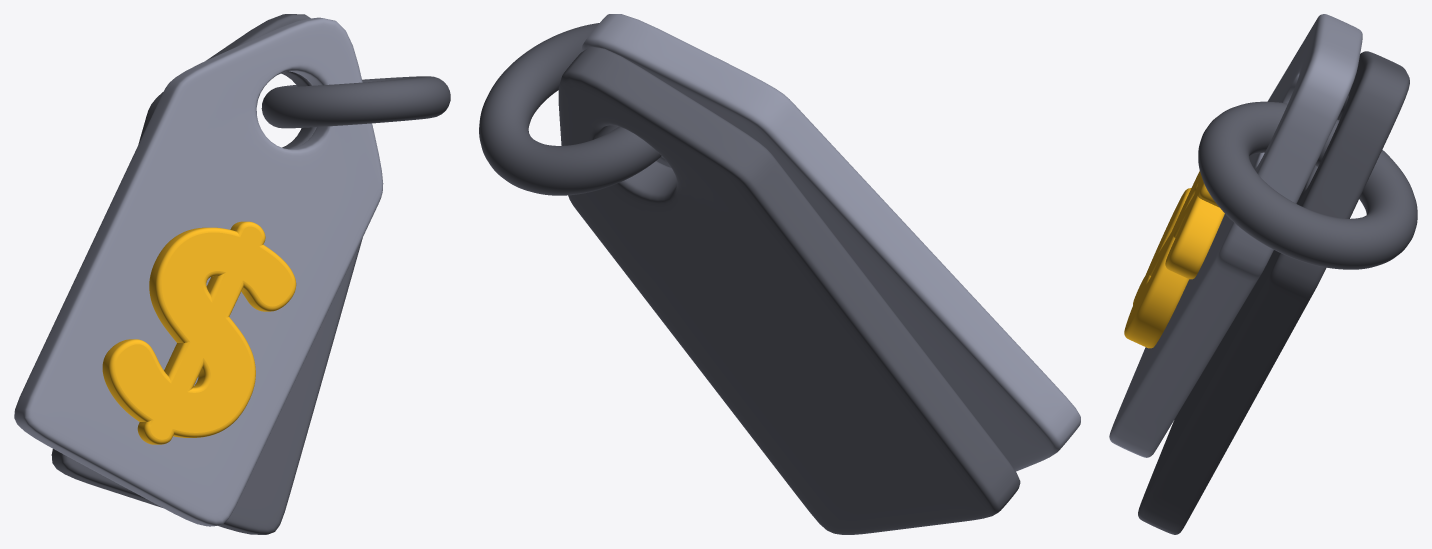
The picture shows the model from 3 angles, left to right: view 1: azimuth 30°, elevation 25°; view 2: azimuth 150°, elevation 25°; view 3: azimuth 270°, elevation 25°; orthographic projection. The views are drawn at different scales.
Parts seen in each view (by area): view 1: Bookmark.003, Text.007, Bookmark.002, NurbsCircle.001; view 2: Bookmark.002, Bookmark.003, NurbsCircle.001; view 3: Bookmark.002, Bookmark.003, NurbsCircle.001, Text.007.
Part boxes in pixels (x1,y1,x2,y2): Bookmark.003: (14, 17, 383, 526); Text.007: (102, 221, 296, 444); Bookmark.002: (51, 14, 362, 534); NurbsCircle.001: (261, 76, 450, 128); Bookmark.002: (558, 46, 1020, 534); Bookmark.003: (582, 14, 1080, 471); NurbsCircle.001: (479, 23, 661, 195); Bookmark.002: (1138, 51, 1409, 534); Bookmark.003: (1109, 14, 1362, 457); NurbsCircle.001: (1198, 101, 1417, 269); Text.007: (1124, 171, 1224, 348).
Size of the model in its own units: 4.9 by 4.6 by 2.35.
